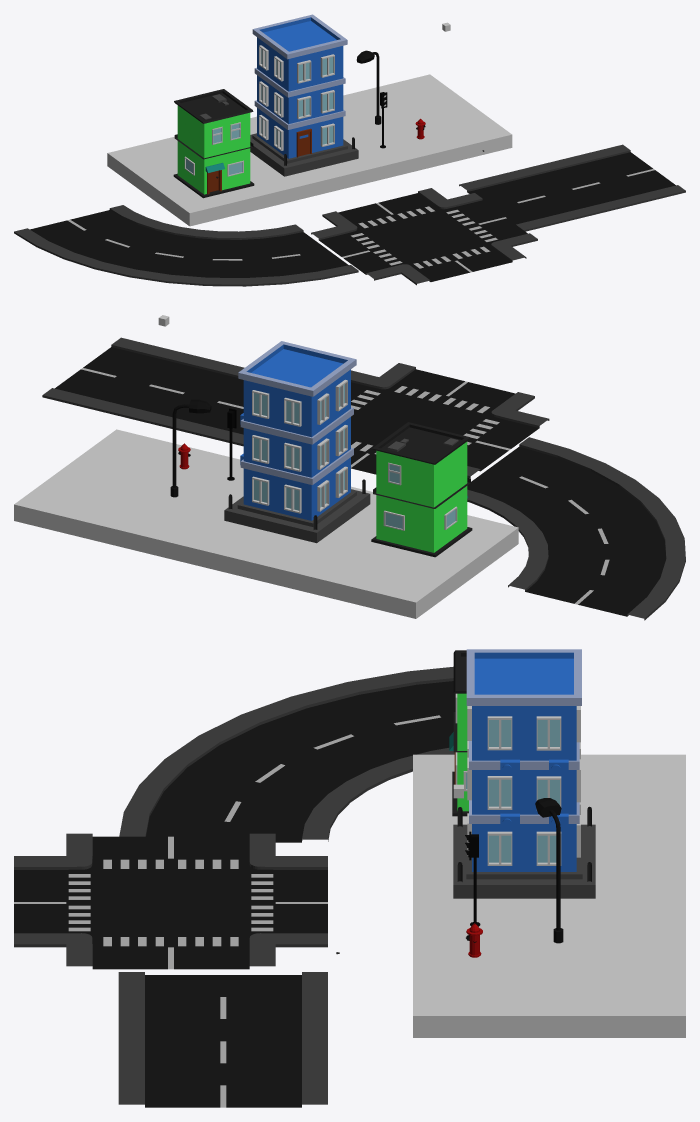
The model's file is city_assets.obj.
3 views of the same model, one above another, from view 1: azimuth 30°, elevation 25°; view 2: azimuth 150°, elevation 25°; view 3: azimuth 270°, elevation 25° (orthographic). The views are drawn at different scales.
Visible parts, largest first — view 1: Foundation, Curve Road, Intersection, Building.001, Straight Road, Building, Street Light; view 2: Foundation, Curve Road, Building.001, Intersection, Straight Road, Building, Street Light; view 3: Foundation, Intersection, Curve Road, Building.001, Straight Road, Building, Street Light.
Boxes of the visible parts, x1=… form: Foundation: x1=107, y1=74, x2=512, y2=226; Curve Road: x1=14, y1=205, x2=358, y2=286; Intersection: x1=311, y1=188, x2=537, y2=285; Building.001: x1=250, y1=14, x2=358, y2=176; Straight Road: x1=459, y1=144, x2=685, y2=231; Building: x1=173, y1=89, x2=484, y2=198; Street Light: x1=356, y1=50, x2=381, y2=124; Foundation: x1=14, y1=429, x2=518, y2=618; Curve Road: x1=467, y1=437, x2=685, y2=620; Building.001: x1=224, y1=341, x2=370, y2=543; Intersection: x1=351, y1=363, x2=549, y2=478; Straight Road: x1=42, y1=337, x2=244, y2=446; Building: x1=371, y1=422, x2=472, y2=557; Street Light: x1=170, y1=399, x2=211, y2=497; Foundation: x1=413, y1=754, x2=685, y2=1037; Intersection: x1=14, y1=833, x2=327, y2=969; Curve Road: x1=119, y1=666, x2=455, y2=842; Building.001: x1=453, y1=649, x2=595, y2=898; Straight Road: x1=118, y1=972, x2=327, y2=1107; Building: x1=336, y1=650, x2=468, y2=954; Street Light: x1=535, y1=798, x2=563, y2=943.
Bounding box in the file's own units: 200 × 46.46 × 128.
